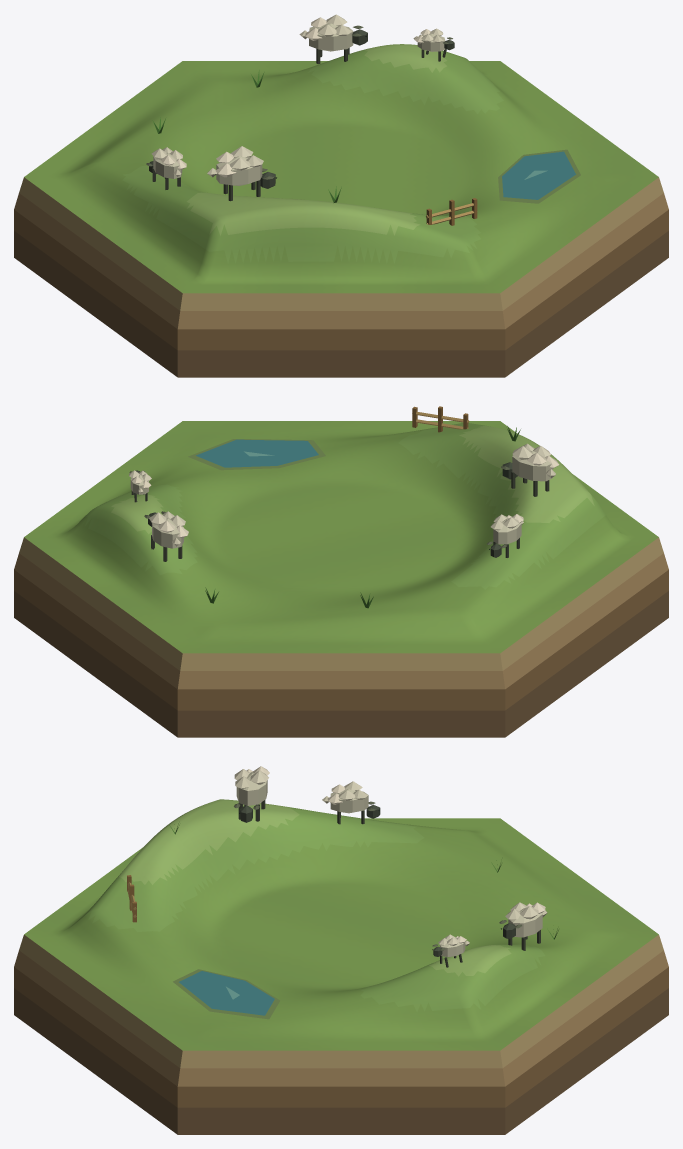
Rendered from catan_terrain_sheep_03.glb.
3 renders of one model, top to bottom at view 1: azimuth 30°, elevation 25°; view 2: azimuth 150°, elevation 25°; view 3: azimuth 270°, elevation 25°, orthographic.
Visible parts, largest first — view 1: catan_terrain_sheep_03_ground, catan_terrain_sheep_03_decoration; view 2: catan_terrain_sheep_03_ground, catan_terrain_sheep_03_decoration; view 3: catan_terrain_sheep_03_ground, catan_terrain_sheep_03_decoration.
Boxes of the visible parts, x1,y1,x2,y2 form: catan_terrain_sheep_03_ground: [14, 44, 668, 377]; catan_terrain_sheep_03_decoration: [146, 14, 580, 225]; catan_terrain_sheep_03_ground: [14, 421, 668, 737]; catan_terrain_sheep_03_decoration: [129, 406, 559, 608]; catan_terrain_sheep_03_ground: [14, 799, 668, 1134]; catan_terrain_sheep_03_decoration: [127, 766, 558, 1019].
Size of the model in its own units: 1.71 by 0.5844 by 1.97.
